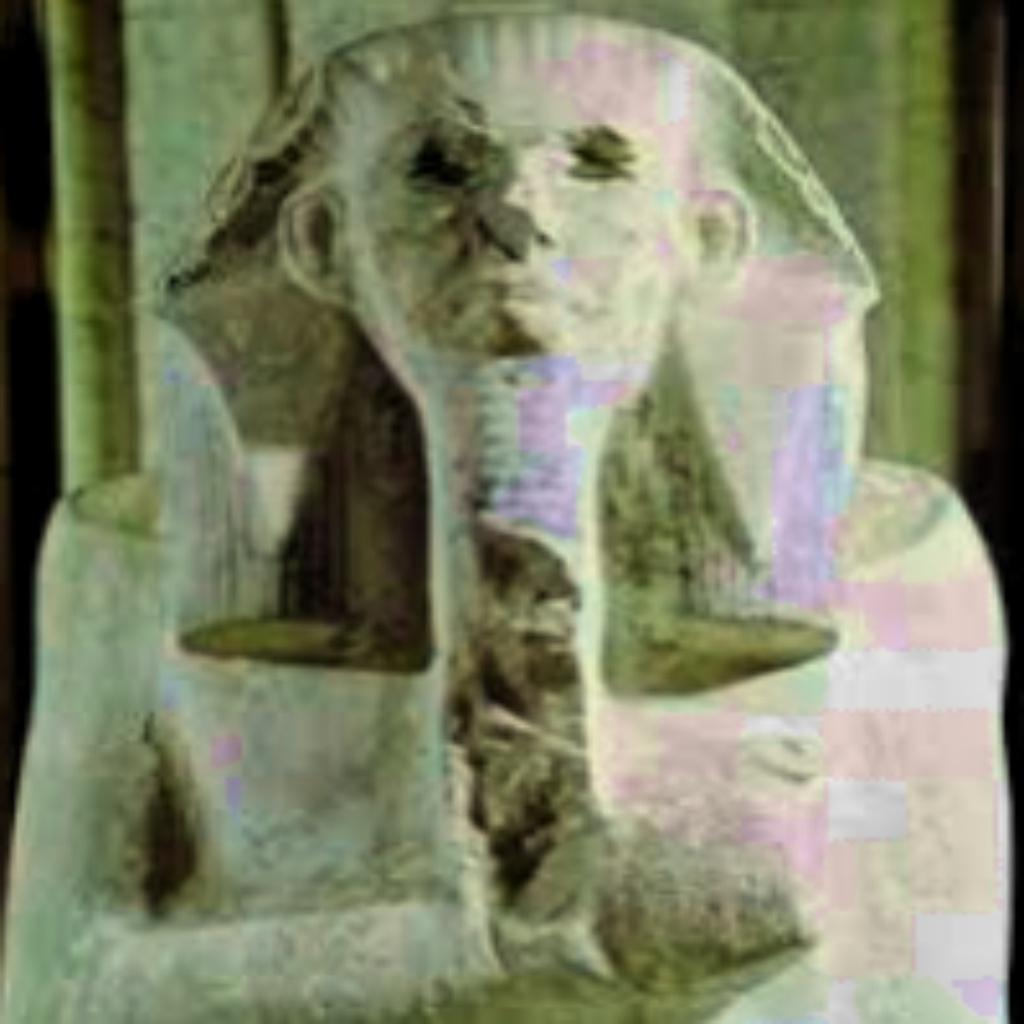Statue of King Zoser: (0, 0, 1019, 1020)
